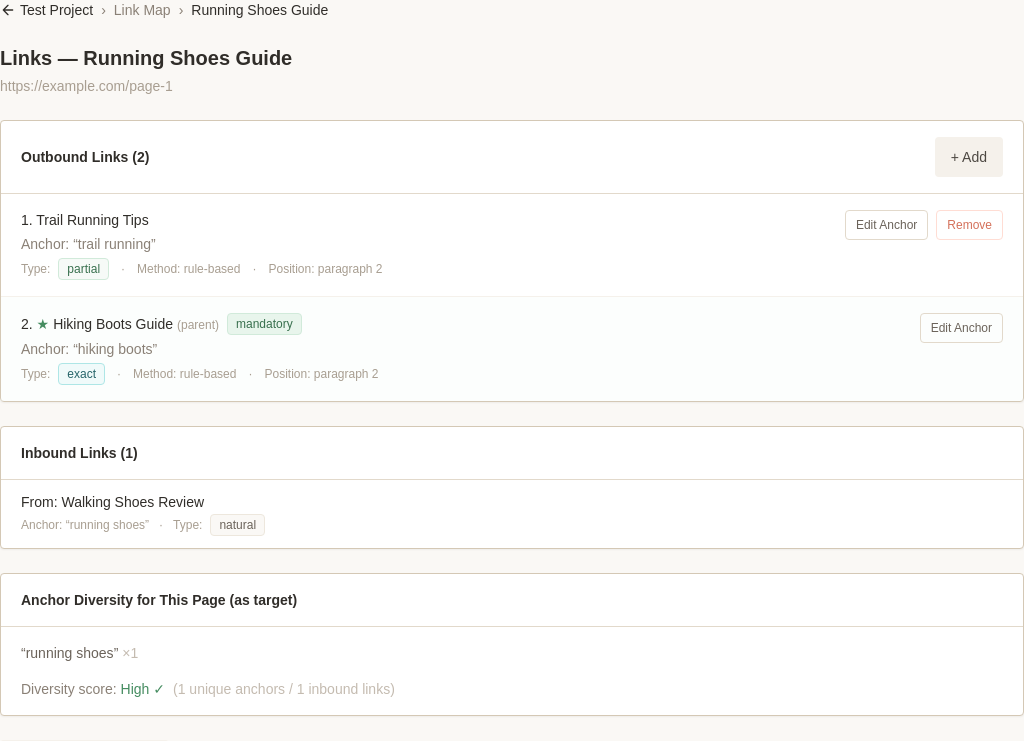
it: PageLinkDetailPage › Add Link modal › validates anchor text is required
Click the button "+ Add".
click(969, 157)  # box [935,137,1003,177]
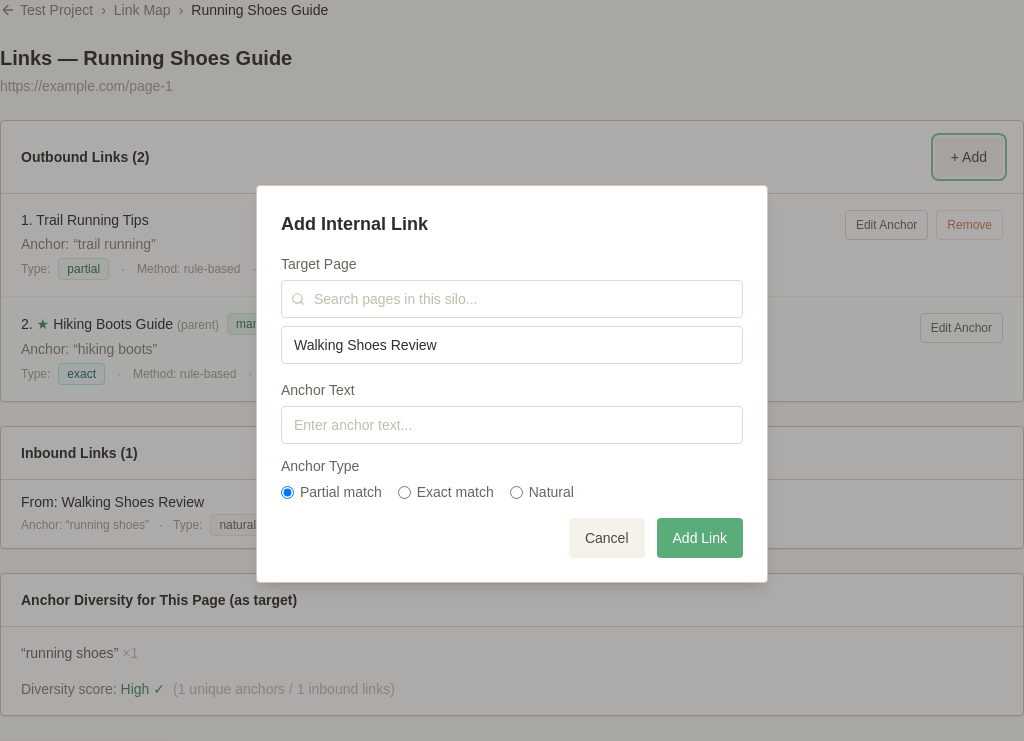
// Select a target page
Click the button "Walking Shoes Review".
click(365, 345)  # box [282,327,742,363]
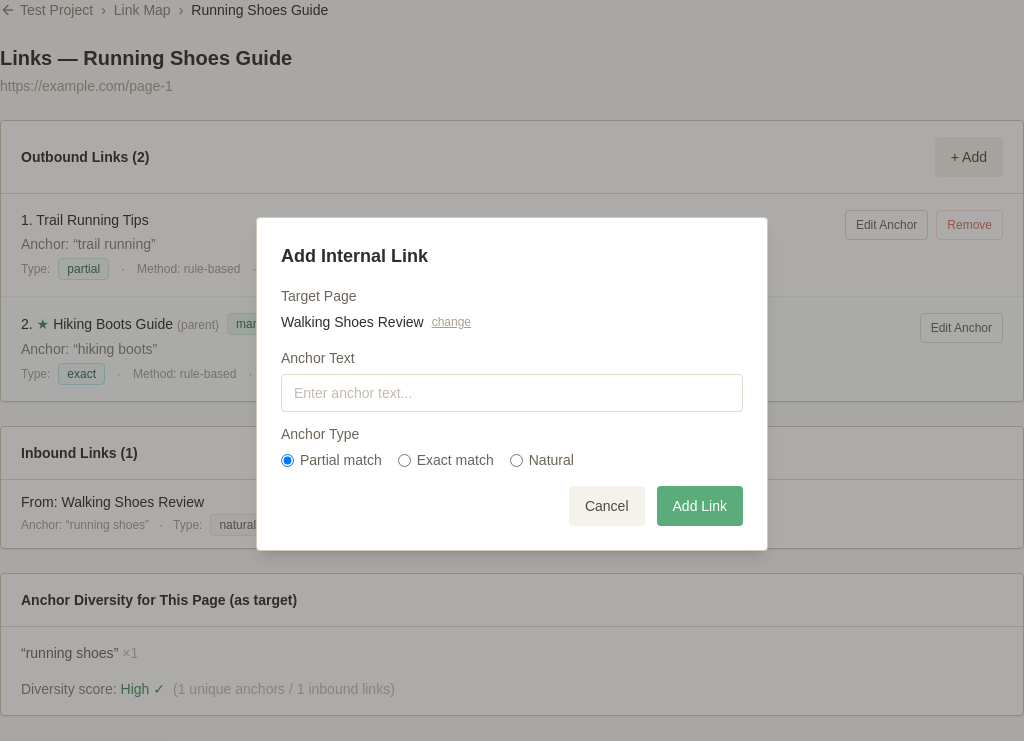
// Click Add Link without entering anchor text
Click the button "Add Link".
click(700, 506)  # box [656,486,743,526]
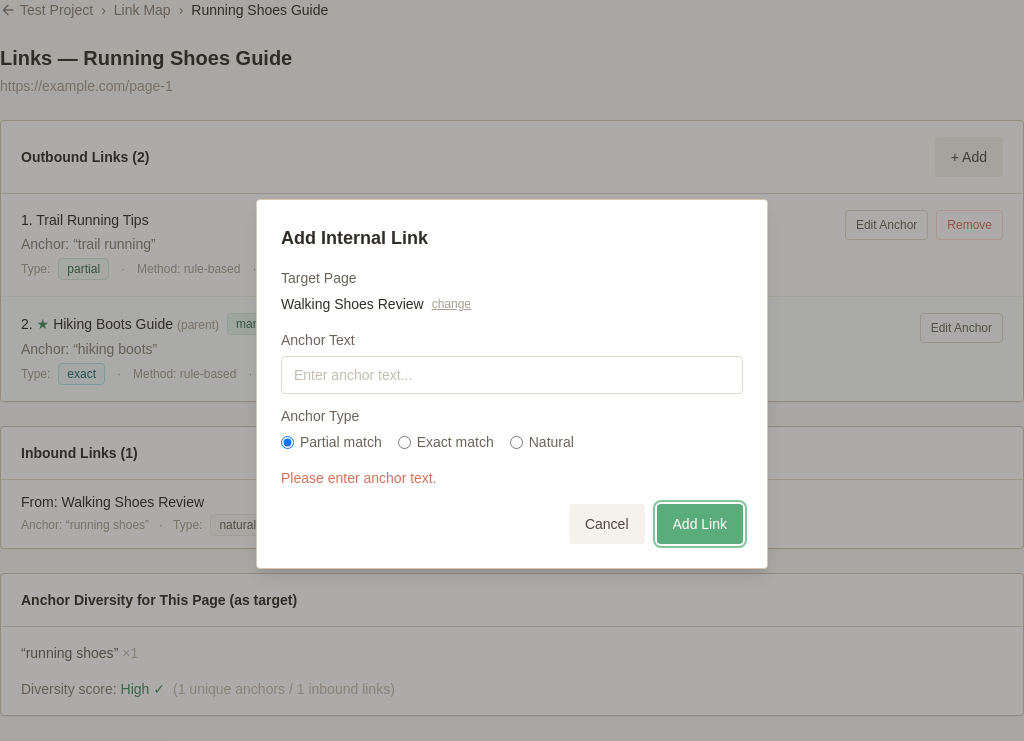
Result: the text "Please enter anchor text." is shown at [281,470,437,486]
